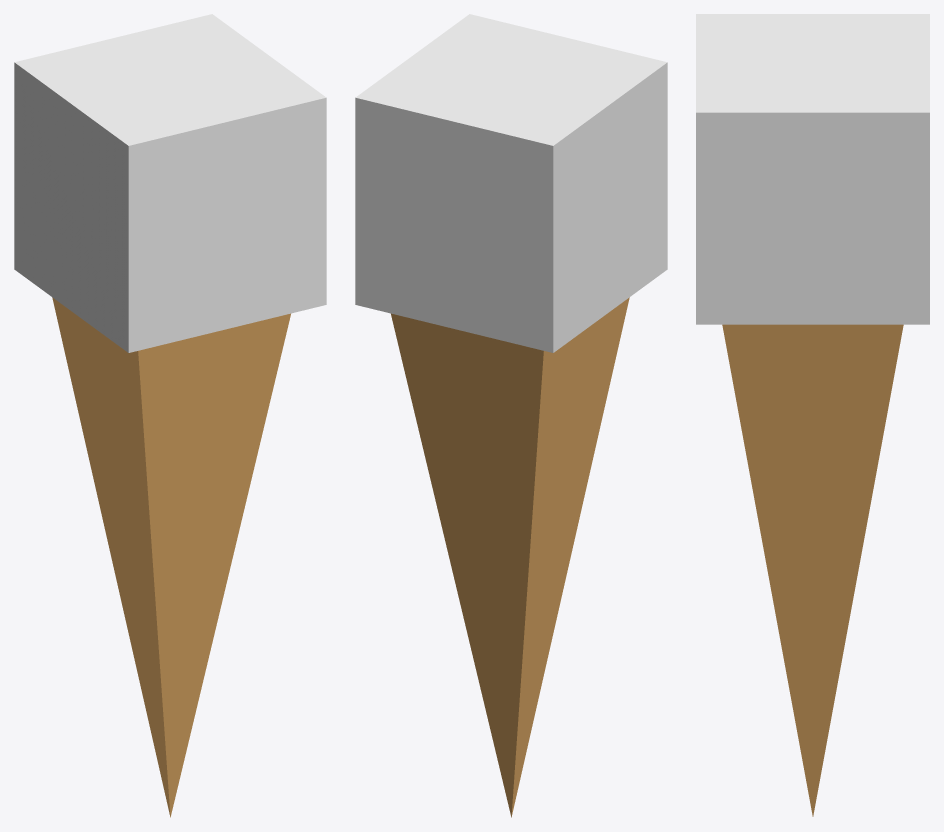
The model's file is CandylandIcecream_01.fbx.
3 views of the same model, side by side, from view 1: azimuth 30°, elevation 25°; view 2: azimuth 150°, elevation 25°; view 3: azimuth 270°, elevation 25° (orthographic). The views are drawn at different scales.
Parts seen in each view (by area): view 1: CandylandIcecream_01; view 2: CandylandIcecream_01; view 3: CandylandIcecream_01.
Boxes of the visible parts, box(x1,y1,x2,y2) form: CandylandIcecream_01: box(14, 14, 326, 817); CandylandIcecream_01: box(355, 14, 667, 817); CandylandIcecream_01: box(696, 14, 929, 816).
Bounding box in the file's own units: 0.254 × 0.9048 × 0.254.
